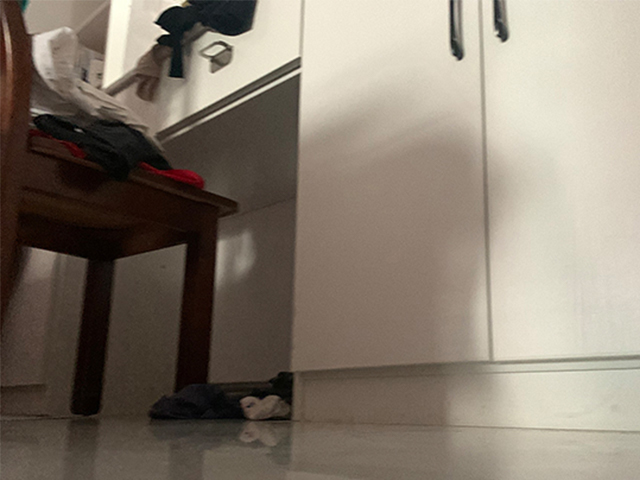cabinet: (94, 1, 640, 432)
socks: (152, 383, 234, 420), (241, 394, 291, 419)
stool: (1, 1, 239, 417)
